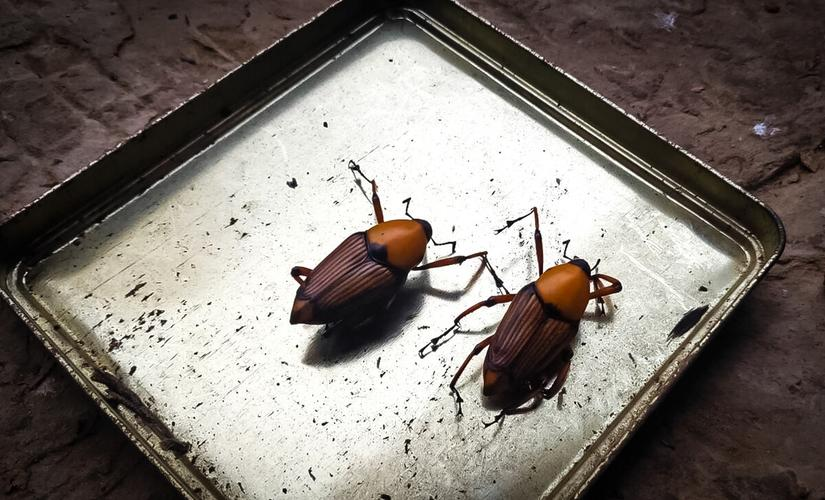Curculionidae: (418, 205, 624, 432), (288, 159, 513, 336)
